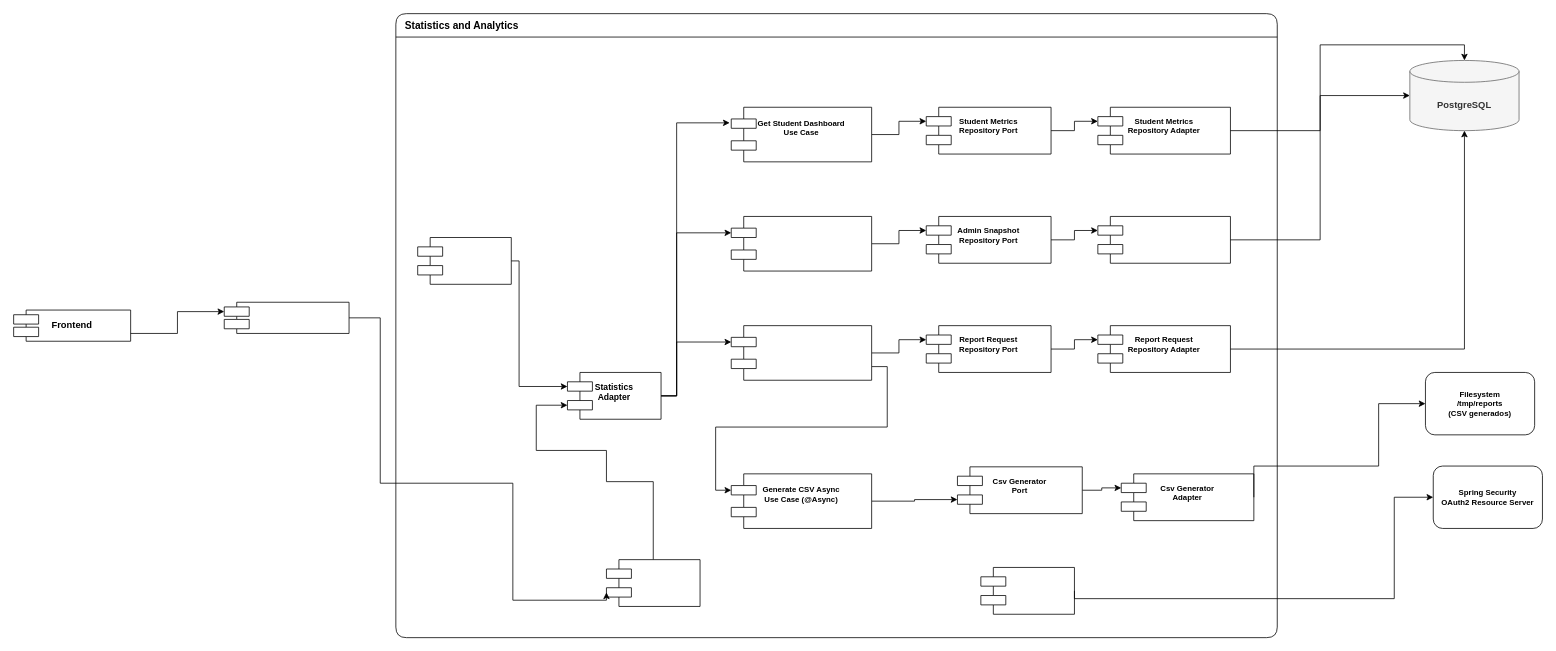
The diagram is 1556 pixels wide and 651 high, and some of its shapes have lost their labels. The shapes that lost their labels are listed below. From the top down, each one's centre as x and y in pixels, then its label:
the point at 801,243: Get Admin Analytics Use Case
the point at 1163,239: Admin Snapshot Repository Adapter
the point at 464,260: Mapper Adapter
the point at 286,317: API Gateway
the point at 801,352: Request Report Use Case
the point at 653,582: Statistics Controller
the point at 1027,590: Security Filter (JWT)
